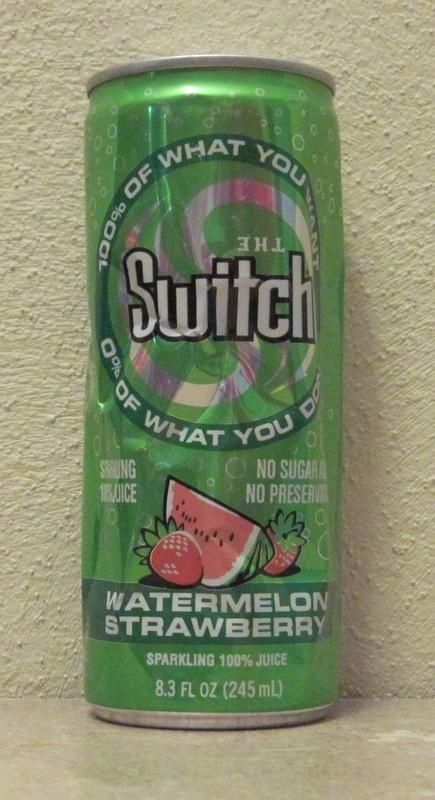can: (75, 51, 347, 733)
